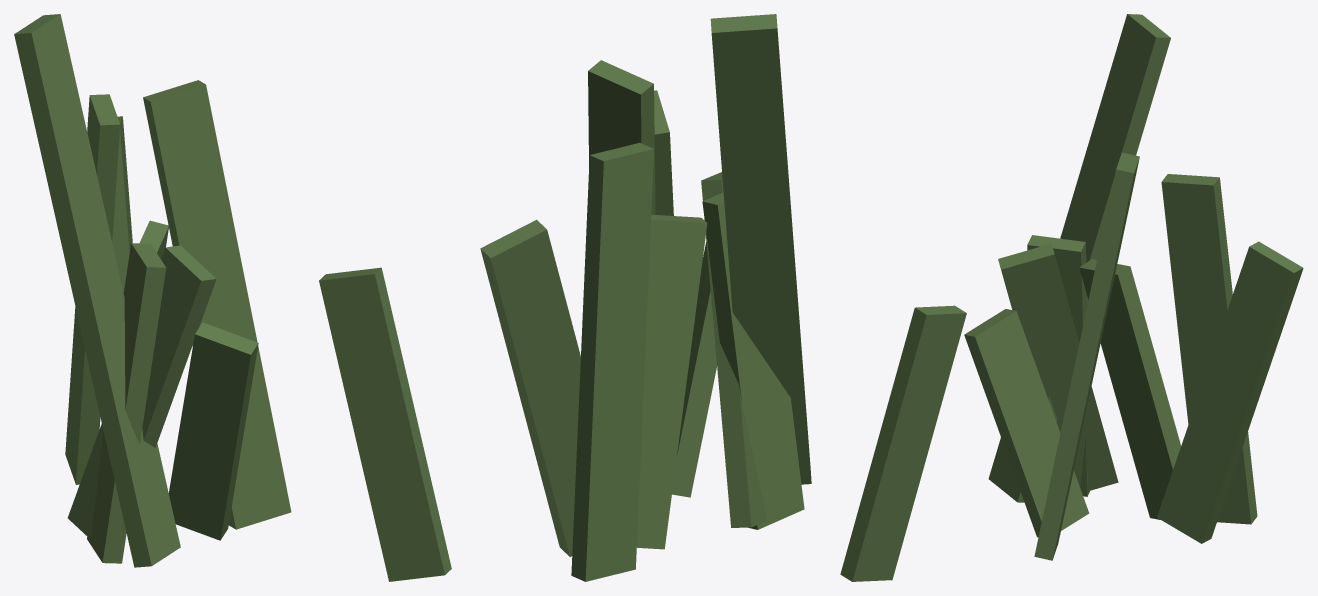
File: P_Seaweed.glb
The picture shows the model from 3 angles, left to right: view 1: azimuth 30°, elevation 25°; view 2: azimuth 150°, elevation 25°; view 3: azimuth 270°, elevation 25°; orthographic projection. The views are drawn at different scales.
Parts seen in each view (by area): view 1: P_Seaweed; view 2: P_Seaweed; view 3: P_Seaweed.
Boxes of the visible parts, bbox=[...] form: P_Seaweed: bbox=[14, 14, 451, 581]; P_Seaweed: bbox=[480, 14, 811, 581]; P_Seaweed: bbox=[840, 14, 1303, 581].
Size of the model in its own units: 0.4743 by 0.8224 by 0.7487.
